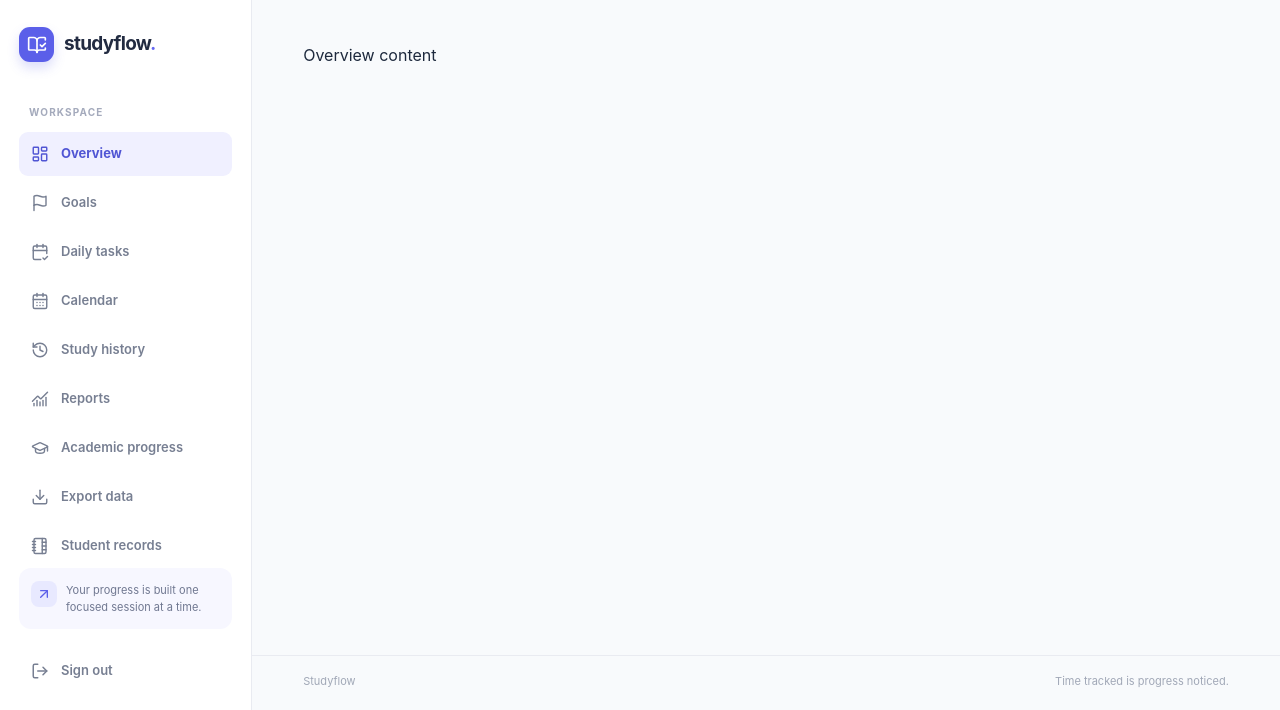
Test: application navigation › navigates to Academic Progress from the main navigation
Click the link "Academic progress" at {"x": 107, "y": 448}, box [31,439,183,457]
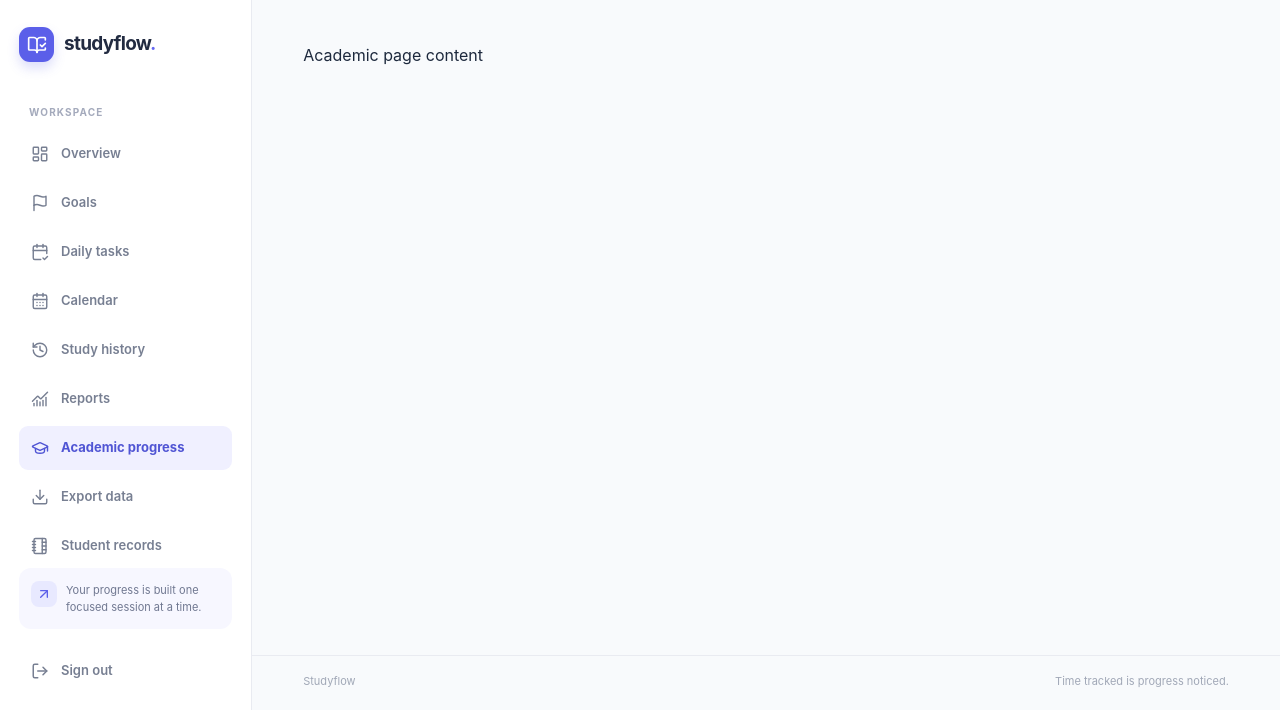
expect the text "Academic page content" is shown: met, box [303,45,483,65]
